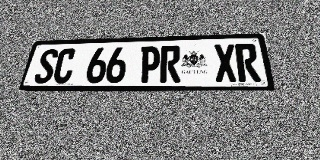6: (85, 47, 109, 83), (105, 47, 128, 83)
C: (51, 48, 77, 83)
P: (139, 46, 160, 83)
R: (234, 43, 261, 82), (160, 45, 180, 83)
S: (33, 49, 59, 84)
X: (213, 44, 238, 82)
